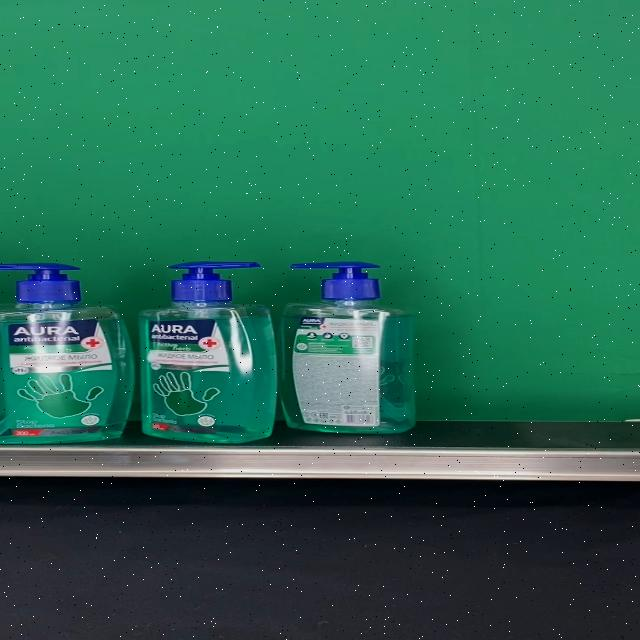Bottle: (140, 260, 276, 443), (0, 263, 134, 445), (278, 262, 415, 434)
Cap: (168, 260, 264, 301), (287, 262, 380, 302), (0, 263, 82, 301)
